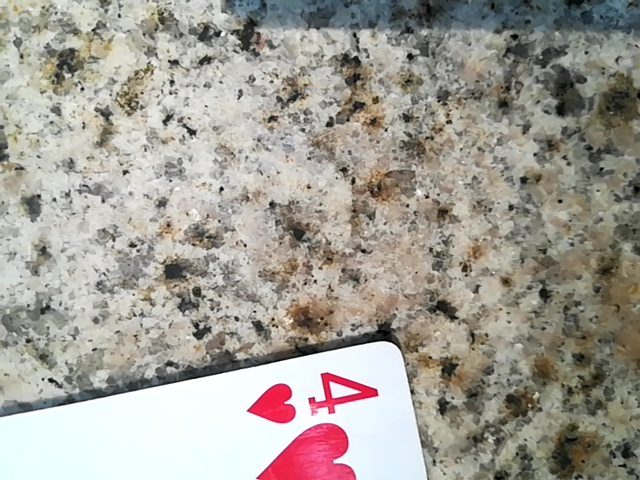hx 4: (0, 339, 482, 480)
